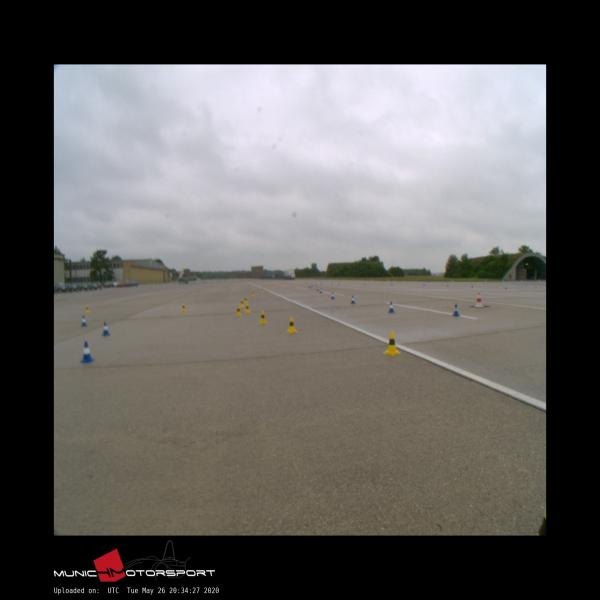blue_cone: (80, 342, 94, 362), (102, 322, 111, 335), (452, 304, 460, 316), (388, 302, 395, 312), (80, 316, 86, 326), (351, 295, 355, 304), (331, 292, 335, 299)
yellow_cone: (383, 332, 400, 355), (286, 317, 298, 332), (259, 310, 266, 324), (244, 302, 251, 313), (236, 304, 242, 315), (182, 303, 186, 312), (240, 300, 244, 308), (86, 305, 90, 312)
